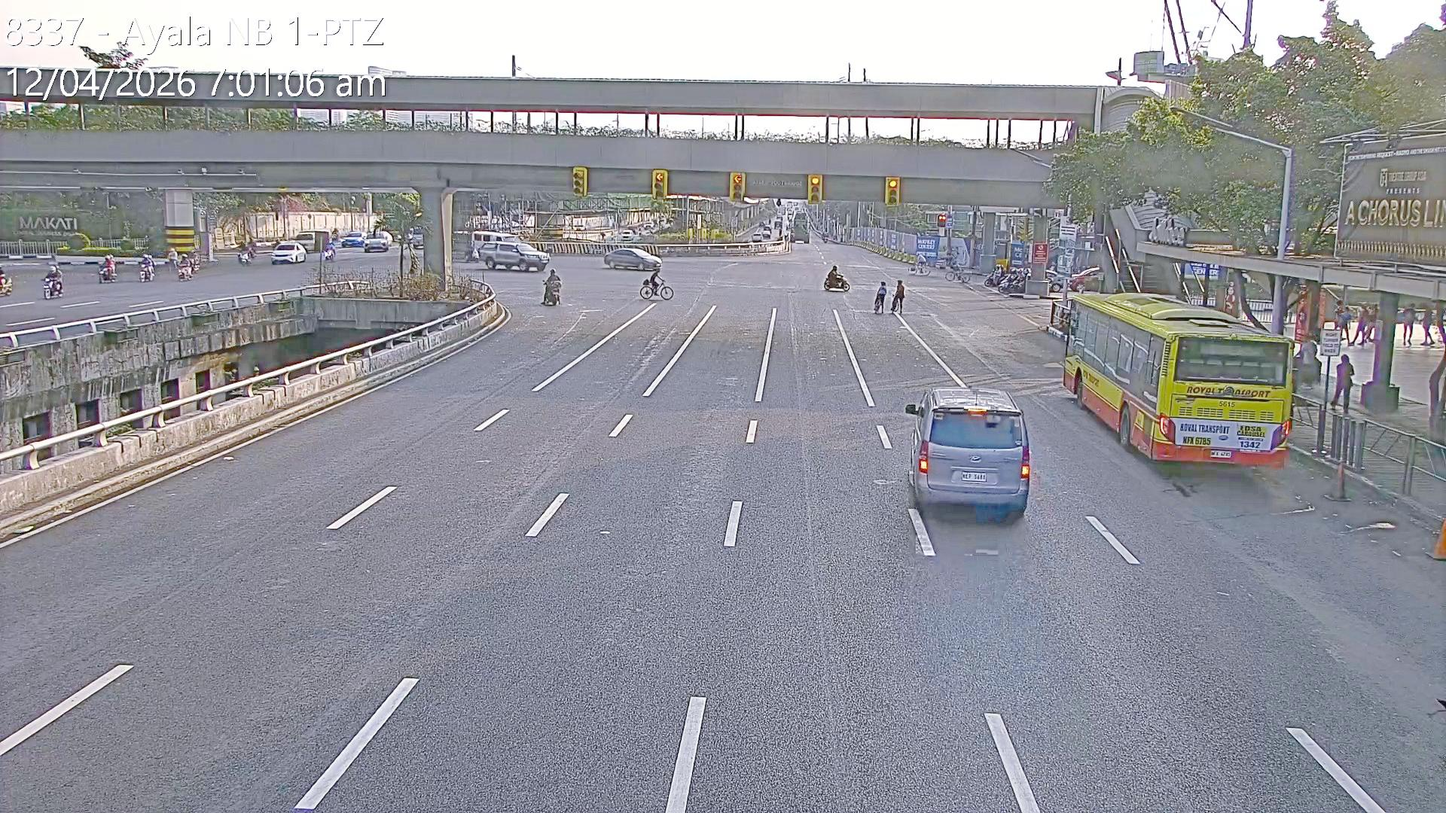Car: (898, 381, 1042, 530), (479, 242, 550, 273), (603, 247, 664, 271), (467, 231, 519, 259), (270, 242, 307, 265), (364, 232, 391, 253), (340, 231, 366, 249)
Motor: (39, 263, 66, 301), (540, 274, 569, 309), (824, 263, 851, 296), (94, 253, 120, 286), (998, 266, 1024, 294), (1008, 268, 1036, 294), (136, 251, 157, 285), (235, 238, 256, 268), (176, 253, 195, 283), (982, 266, 1007, 286)
Not Accident: (40, 245, 204, 297), (232, 224, 397, 273), (458, 215, 555, 275)
